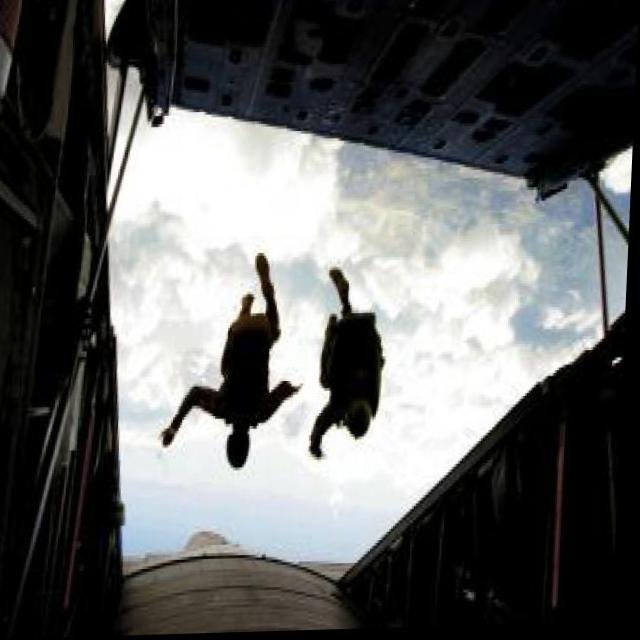fall: (162, 249, 310, 476), (311, 270, 394, 464)
